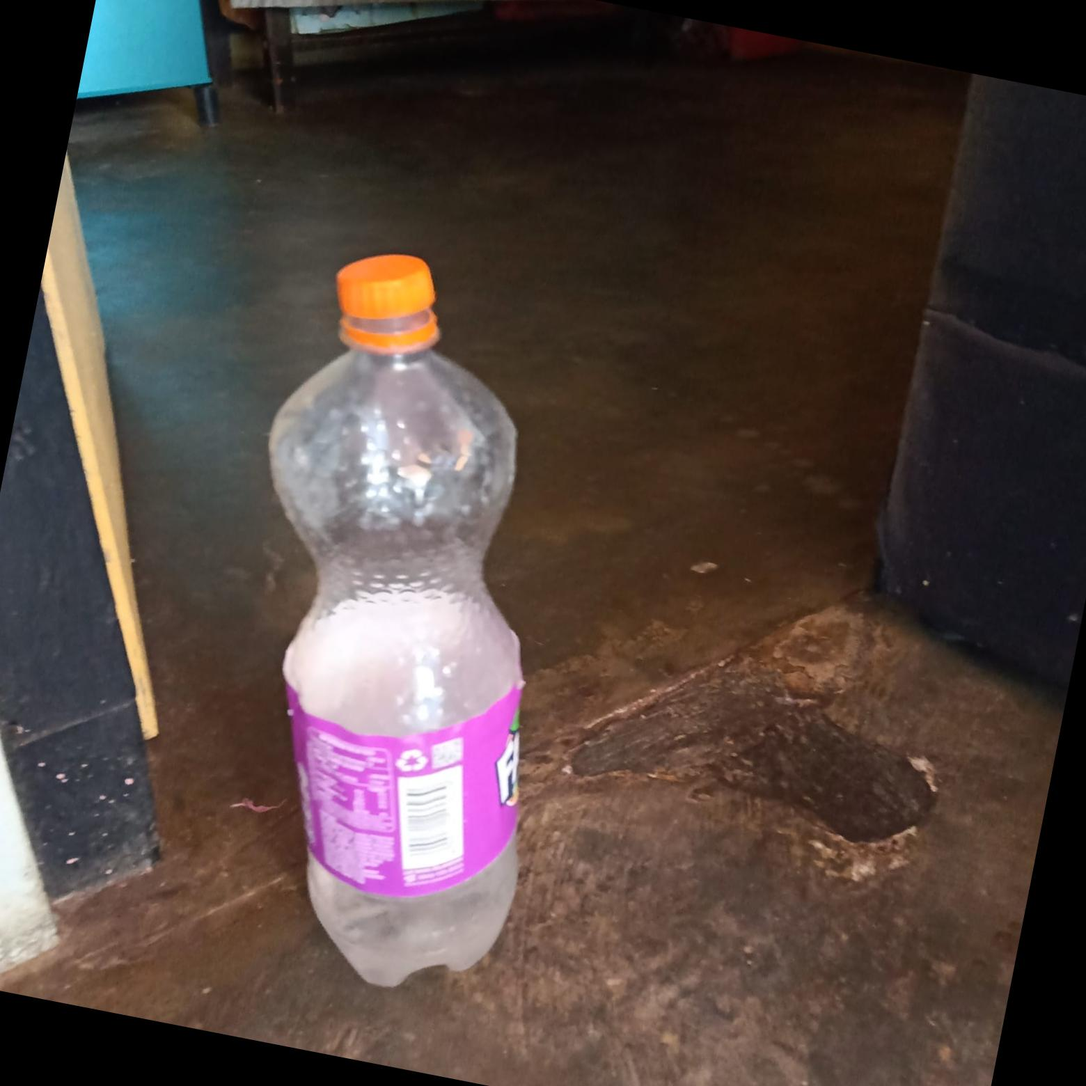Plastik: (174, 236, 635, 1003)
